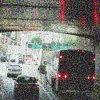buses: (39, 48, 97, 96)
